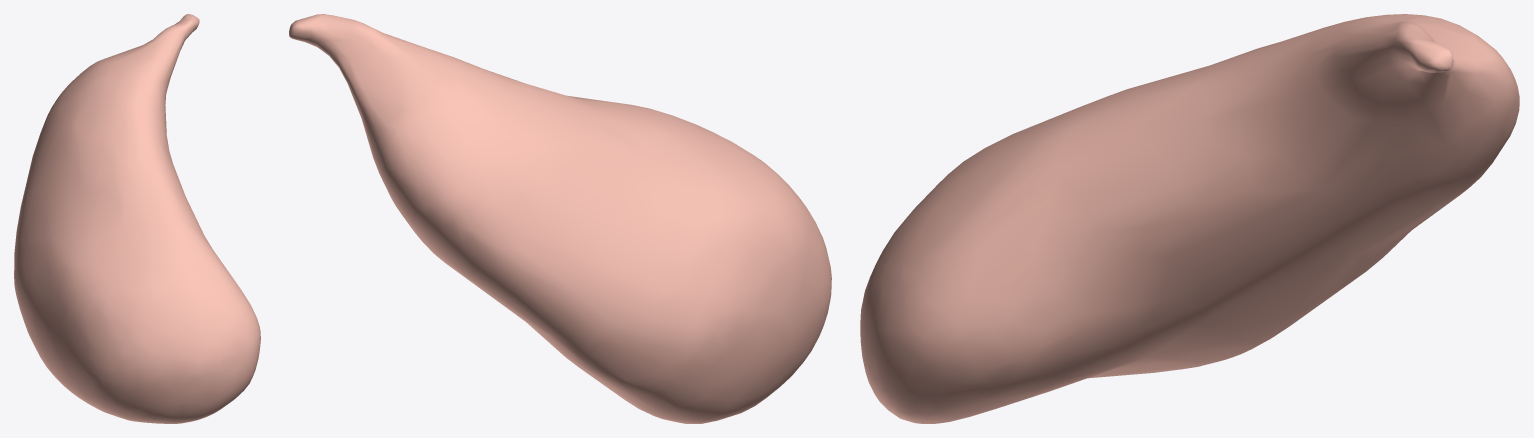
The model's file is gallbladder.glb.
3 renders of one model, left to right at view 1: azimuth 30°, elevation 25°; view 2: azimuth 150°, elevation 25°; view 3: azimuth 270°, elevation 25°, orthographic. The views are drawn at different scales.
Visible parts, largest first — view 1: FJ2817; view 2: FJ2817; view 3: FJ2817.
Part boxes in pixels (box(x1,y1,x2,y2)): FJ2817: box(14, 14, 260, 423); FJ2817: box(289, 14, 831, 423); FJ2817: box(860, 14, 1519, 423).
Size of the model in its own units: 0.1093 by 0.1212 by 0.1452.
